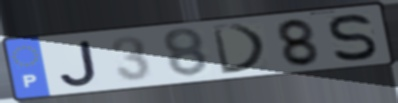3: (109, 34, 154, 83)
8: (160, 27, 215, 81), (275, 17, 321, 68)
D: (209, 22, 271, 77)
J: (57, 39, 100, 89)
S: (327, 12, 380, 63)
